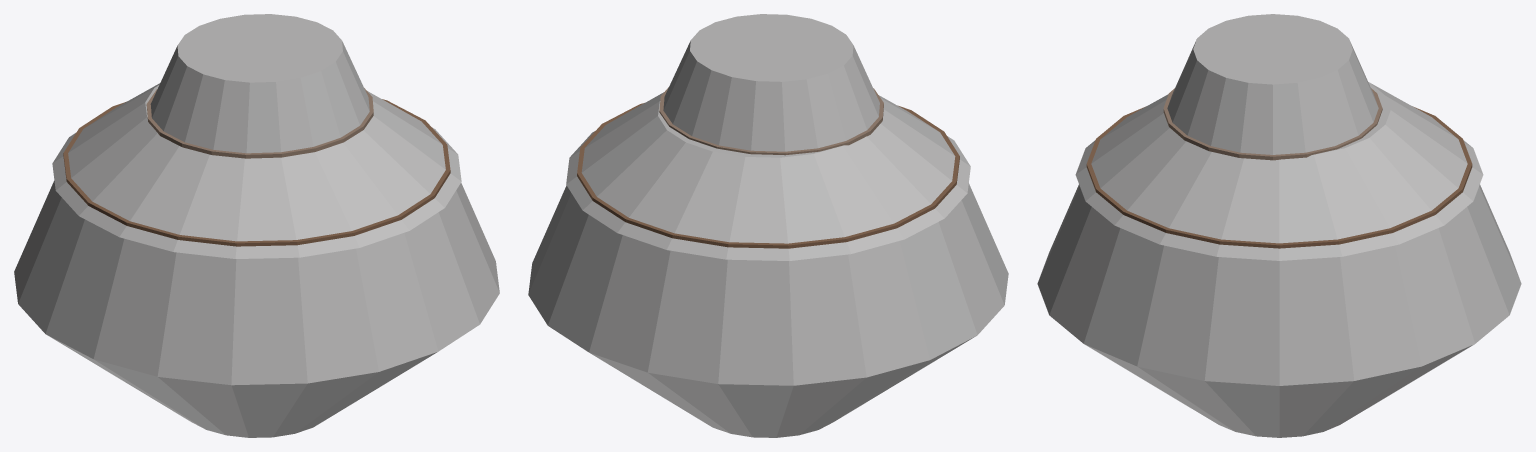
3 views of the same model, side by side, from view 1: azimuth 30°, elevation 25°; view 2: azimuth 150°, elevation 25°; view 3: azimuth 270°, elevation 25° (orthographic).
Visible parts, largest first — view 1: stepped_cap; view 2: stepped_cap; view 3: stepped_cap.
Part boxes in pixels (bbox=[...]): stepped_cap: bbox=[14, 14, 499, 437]; stepped_cap: bbox=[528, 14, 1008, 437]; stepped_cap: bbox=[1037, 14, 1521, 437].
Size of the model in its own units: 1.2 by 0.9764 by 1.2.
